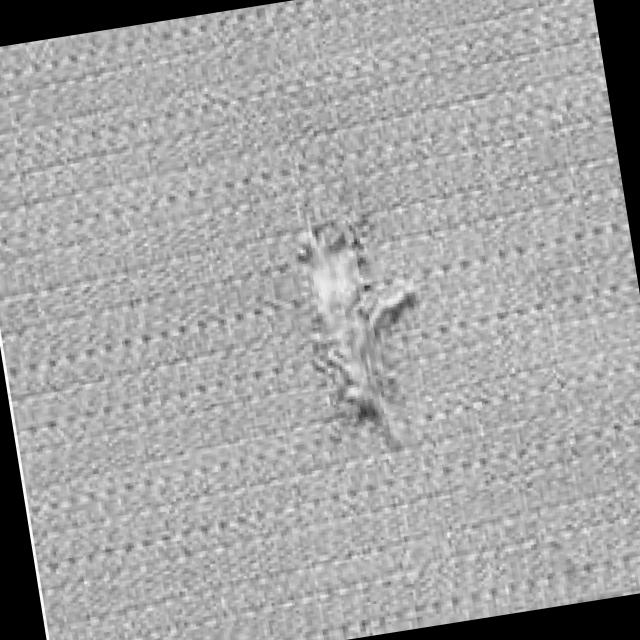cut: (284, 200, 416, 448)
